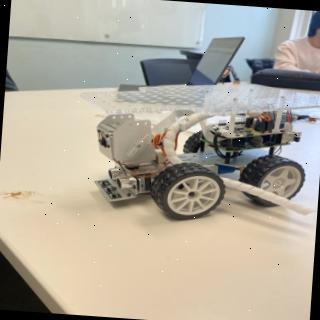vehicle: (72, 72, 320, 229)
